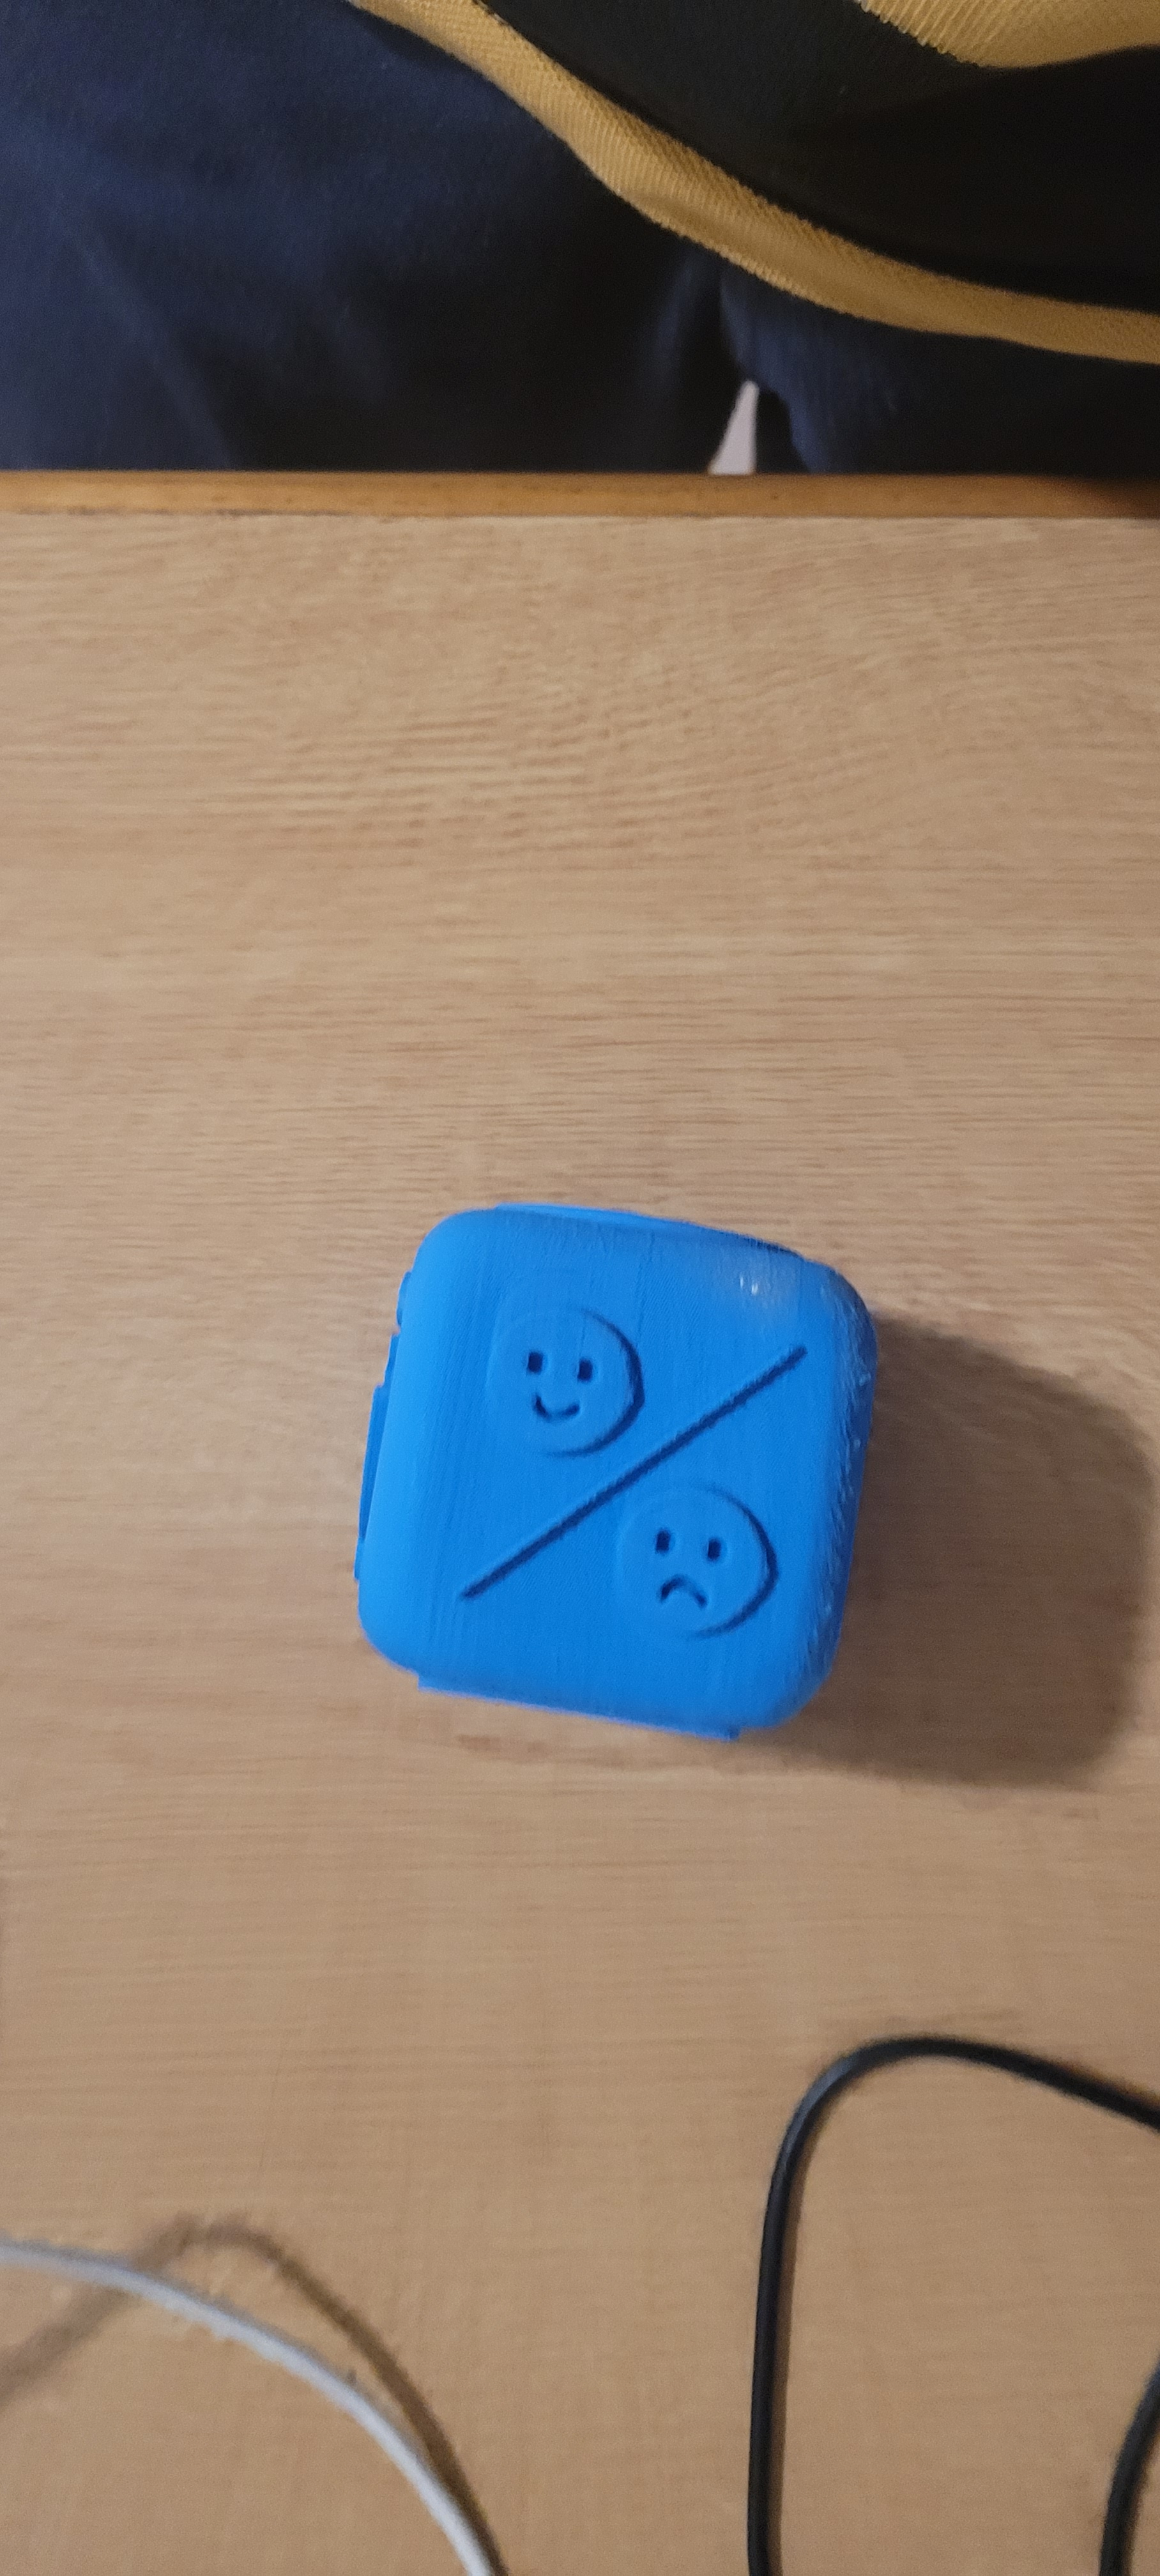Like/Dislike: (291, 1219, 877, 1640)
